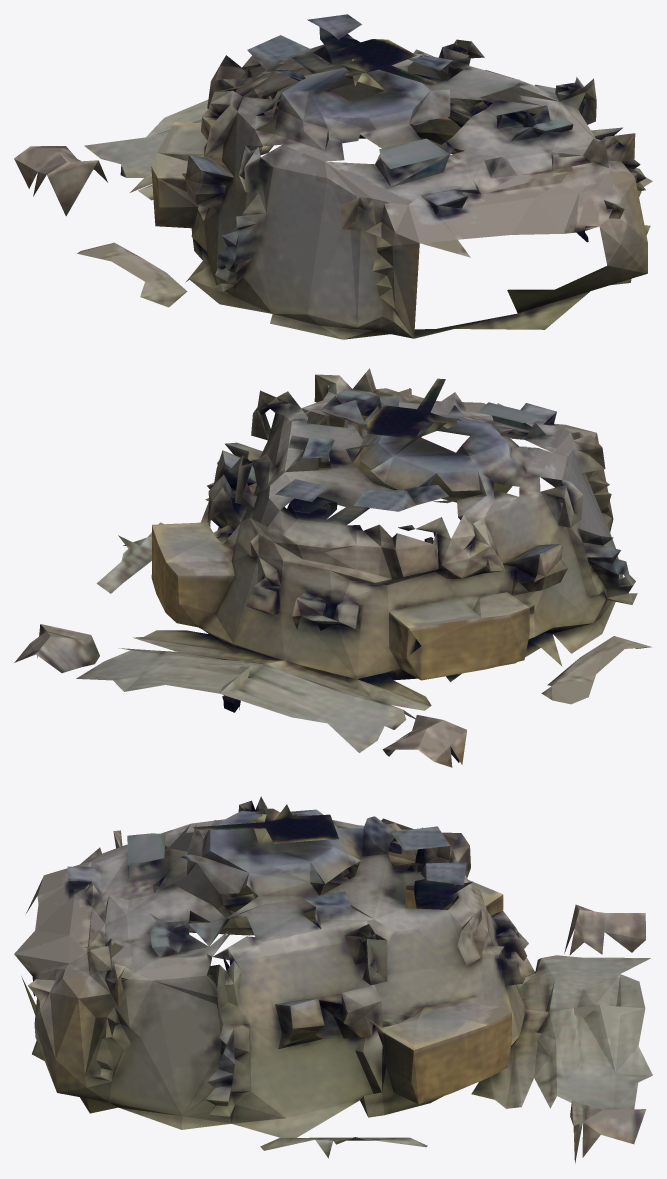
The model's file is pershing_turret.obj.
3 views of the same model, one above another, from view 1: azimuth 30°, elevation 25°; view 2: azimuth 150°, elevation 25°; view 3: azimuth 270°, elevation 25° (orthographic). The views are drawn at different scales.
Visible parts, largest first — view 1: pershing_turret; view 2: pershing_turret; view 3: pershing_turret.
Boxes of the visible parts, box(x1,y1,x2,y2) form: pershing_turret: box(14, 14, 652, 339); pershing_turret: box(14, 368, 652, 767); pershing_turret: box(14, 796, 652, 1163).
Bounding box in the file's own units: 3.56 × 1.41 × 3.63.
Materials: 1 (1 with a texture image).
